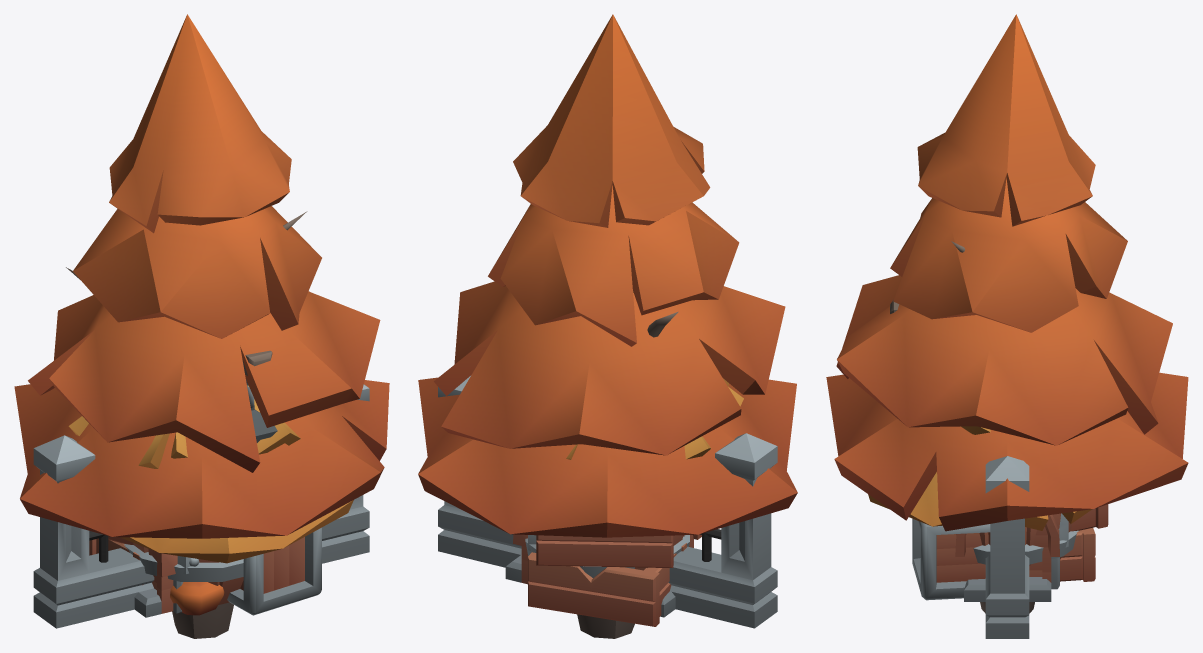
The model's file is props.glb.
The picture shows the model from 3 angles, left to right: view 1: azimuth 30°, elevation 25°; view 2: azimuth 150°, elevation 25°; view 3: azimuth 270°, elevation 25°; orthographic projection. The views are drawn at different scales.
Visible parts, largest first — view 1: tree_pine_orange_large, fence, crates_stacked, tree_pine_yellow_medium, barrel_large, chest_lid, grave_A, chest, post_lantern_lantern; view 2: tree_pine_orange_large, fence, crates_stacked, grave_A, tree_pine_yellow_medium, barrel_large; view 3: tree_pine_orange_large, crates_stacked, fence, tree_pine_yellow_medium, barrel_large, chest_lid, grave_A.
Part boxes in pixels (x1,y1,x2,y2): tree_pine_orange_large: (14,14,389,638); fence: (33,384,369,628); crates_stacked: (89,527,321,615); tree_pine_yellow_medium: (68,385,353,563); barrel_large: (124,543,243,604); chest_lid: (152,550,199,577); grave_A: (134,588,161,617); chest: (152,567,182,613); post_lantern_lantern: (246,380,277,442); tree_pine_orange_large: (418,14,797,638); fence: (438,376,777,628); crates_stacked: (528,535,686,626); grave_A: (505,555,675,617); tree_pine_yellow_medium: (566,291,743,459); barrel_large: (525,535,689,577); tree_pine_orange_large: (826,14,1188,613); crates_stacked: (912,504,1108,600); fence: (985,456,1029,638); tree_pine_yellow_medium: (868,426,1091,530); barrel_large: (973,513,1078,565); chest_lid: (955,513,1068,556); grave_A: (964,577,1051,601).
Size of the model in its own units: 4.76 by 7.48 by 4.16.
Materials: 5 (5 with a texture image).
